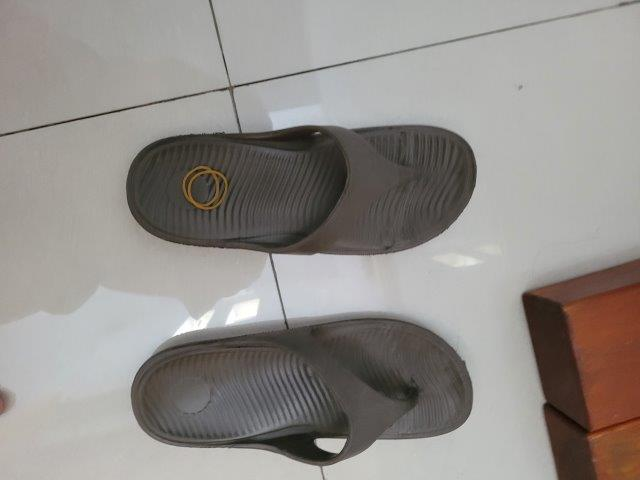karet: (181, 165, 230, 212)
